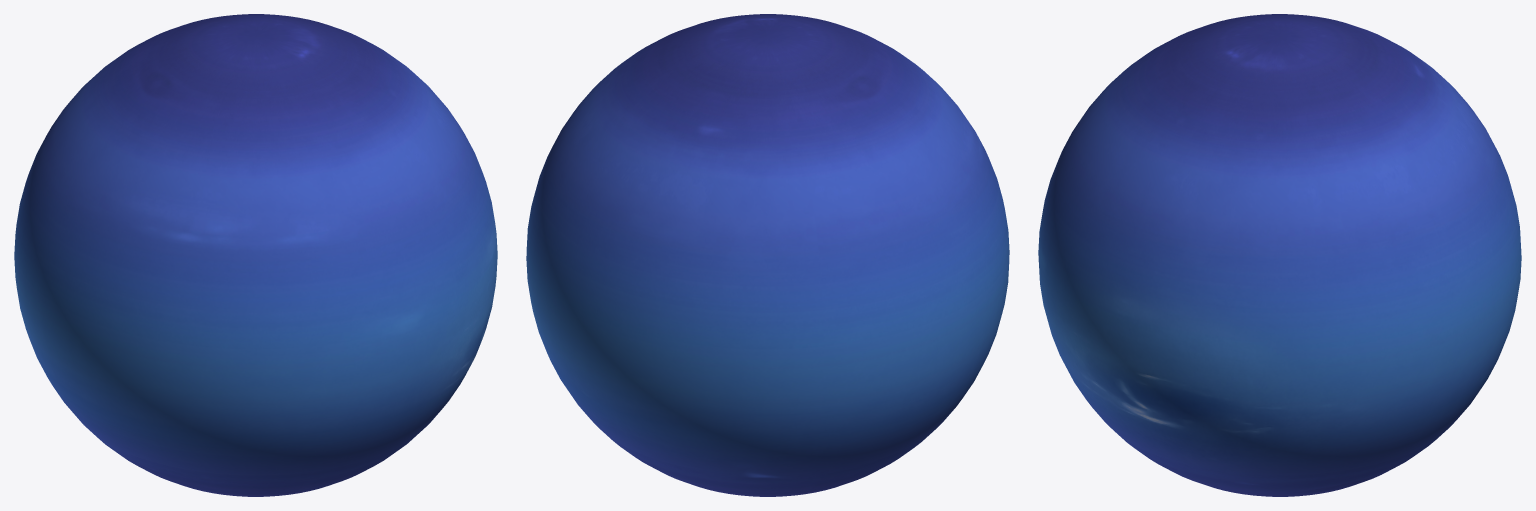
File: Neptune.glb
The picture shows the model from 3 angles, left to right: view 1: azimuth 30°, elevation 25°; view 2: azimuth 150°, elevation 25°; view 3: azimuth 270°, elevation 25°; orthographic projection.
Parts seen in each view (by area): view 1: Neptune; view 2: Neptune; view 3: Neptune.
Part boxes in pixels (x1,y1,x2,y2): Neptune: [14, 14, 497, 496]; Neptune: [526, 14, 1009, 496]; Neptune: [1038, 14, 1521, 496].
Size of the model in its own units: 2.2 by 2.2 by 2.2.
1 material, 1 textured.
